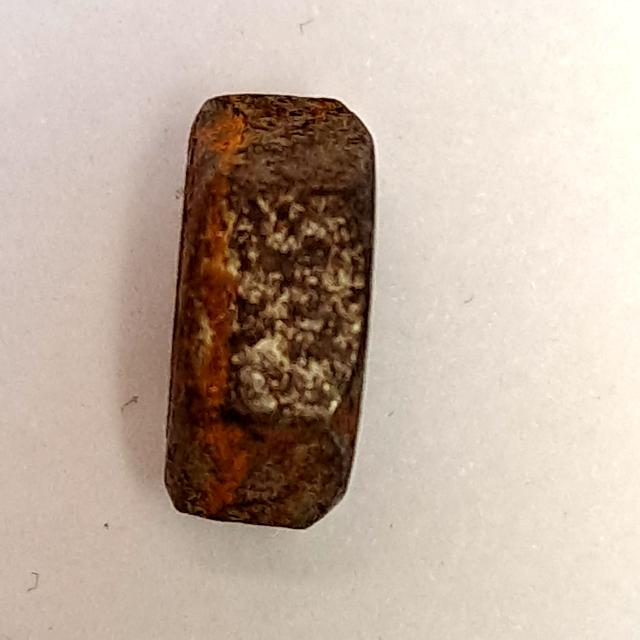Side_Rust: (150, 83, 387, 541)
